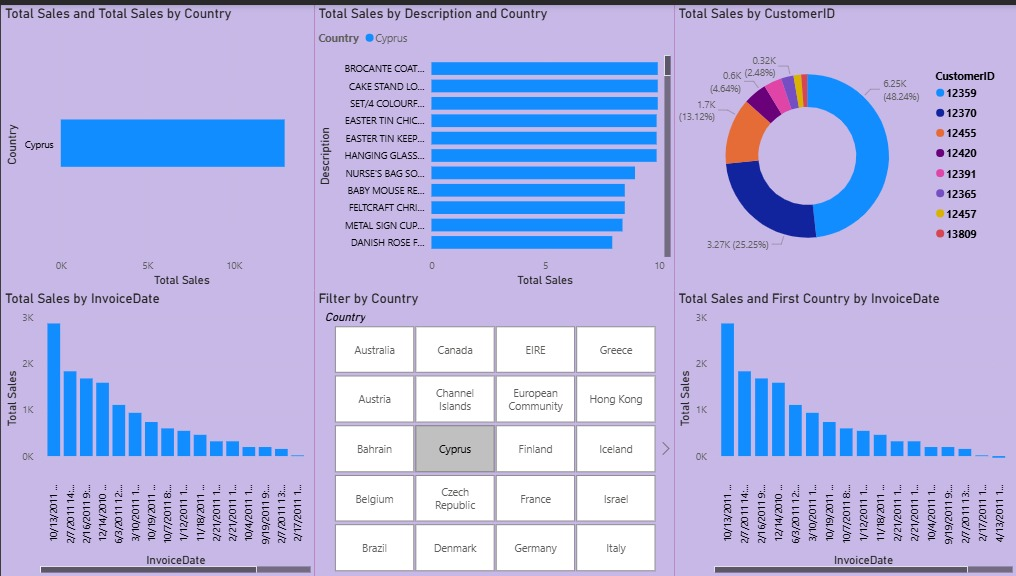

This screenshot's page, from the dashboard's own definition file:
{"tool":"powerbi","page":{"name":"Page 1","canvas":[1280,720],"ordinal":0},"visuals":[{"type":"clusteredBarChart","fields":{"Y":["data (3).Total Sales","data (3).Total Sales"],"Category":["data (3).Country"]},"box":[0,0,395,359.1],"z":0},{"type":"lineClusteredColumnComboChart","fields":{"Category":["data (3).InvoiceDate"],"Y":["data (3).Total Sales"]},"box":[0,359.1,395,360.9],"z":1000},{"type":"clusteredBarChart","fields":{"Category":["data (3).Description"],"Y":["data (3).Total Sales"],"Series":["data (3).Country"]},"box":[395,0,453.5,359.1],"z":2000},{"type":"slicer","title":"Filter by Country","fields":{"Values":["data (3).Country"]},"box":[395,359.1,453.5,360.9],"z":3000},{"type":"donutChart","fields":{"Y":["data (3).Total Sales"],"Category":["data (3).CustomerID"]},"box":[848.5,0,430.9,359.1],"z":4000},{"type":"pieChart","fields":{"Category":["data (3).Quantity"],"Y":["data (3).Total Sales"]},"box":[849,359,431,361],"z":5000}]}

Visuals, with their boxes in screenshot pixels (x1, y1, x2, y2), scaled from the page's 1280x720 canvas onto the 1016x576 screenshot:
clusteredBarChart - data (3).Total Sales x data (3).Total Sales: left=0, top=0, right=314, bottom=287
lineClusteredColumnComboChart - data (3).InvoiceDate x data (3).Total Sales: left=0, top=287, right=314, bottom=575
clusteredBarChart - data (3).Description x data (3).Total Sales: left=314, top=0, right=673, bottom=287
"Filter by Country" slicer: left=314, top=287, right=673, bottom=575
donutChart - data (3).Total Sales x data (3).CustomerID: left=673, top=0, right=1015, bottom=287
pieChart - data (3).Quantity x data (3).Total Sales: left=674, top=287, right=1015, bottom=575
